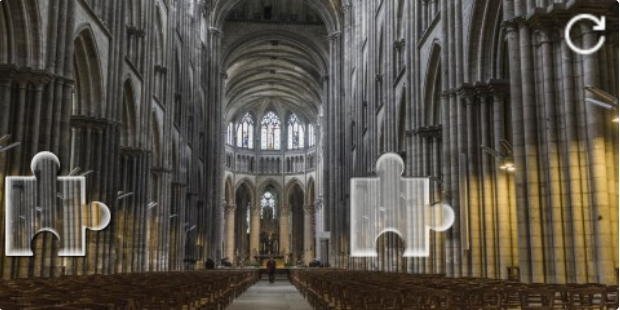target: (351, 152, 454, 257)
